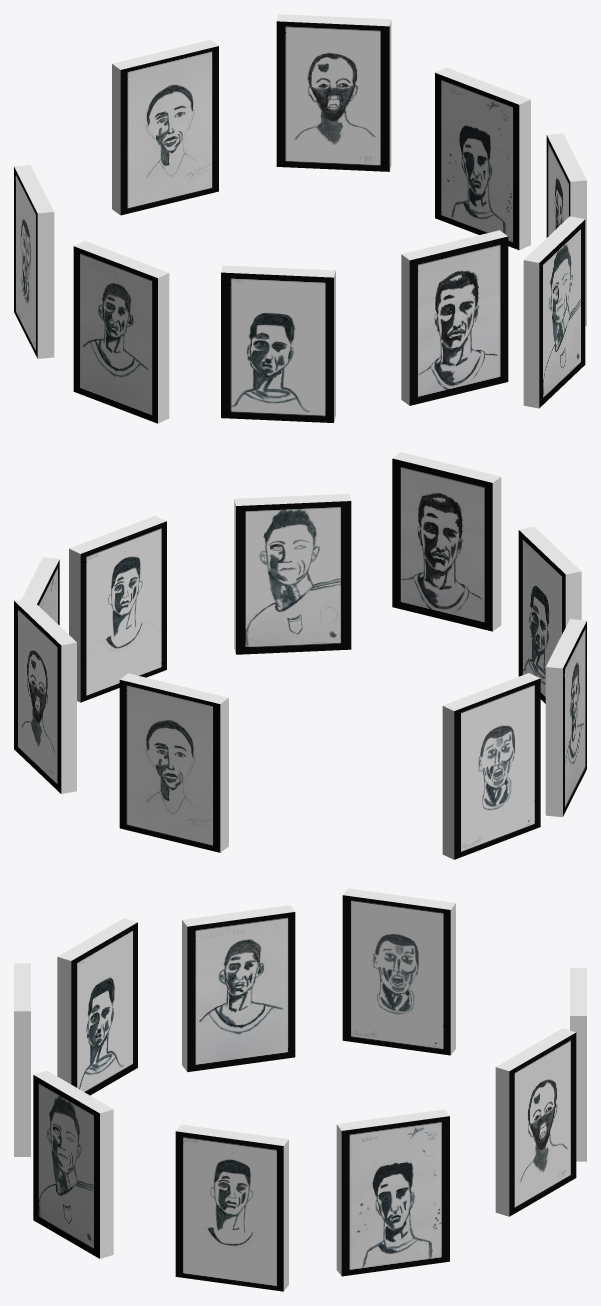
The model's file is 9_portrait.obj.
3 renders of one model, top to bottom at view 1: azimuth 30°, elevation 25°; view 2: azimuth 150°, elevation 25°; view 3: azimuth 270°, elevation 25°, orthographic. The views are drawn at different scales.
Visible parts, largest first — view 1: Cube_2, Cube_7, Cube_6, Cube_1, Cube_8, Cube_3, Cube_5, Cube_9, Cube_4; view 2: Cube_5, Cube_1, Cube_6, Cube_9, Cube_4, Cube_2, Cube_7, Cube_8, Cube_3; view 3: Cube_3, Cube_9, Cube_4, Cube_8, Cube_2, Cube_5, Cube_7, Cube_6, Cube_1.
Part boxes in pixels (x1=…): Cube_2: x1=276, y1=14, x2=391, y2=171; Cube_7: x1=221, y1=265, x2=335, y2=422; Cube_6: x1=401, y1=230, x2=508, y2=405; Cube_1: x1=112, y1=40, x2=218, y2=215; Cube_8: x1=73, y1=241, x2=169, y2=423; Cube_3: x1=435, y1=67, x2=530, y2=250; Cube_5: x1=523, y1=216, x2=585, y2=408; Cube_9: x1=14, y1=165, x2=54, y2=358; Cube_4: x1=546, y1=133, x2=586, y2=325; Cube_5: x1=234, y1=493, x2=351, y2=654; Cube_1: x1=119, y1=673, x2=228, y2=852; Cube_6: x1=392, y1=452, x2=501, y2=631; Cube_9: x1=442, y1=673, x2=540, y2=859; Cube_4: x1=69, y1=516, x2=166, y2=702; Cube_2: x1=14, y1=597, x2=76, y2=793; Cube_7: x1=518, y1=526, x2=581, y2=703; Cube_8: x1=545, y1=619, x2=586, y2=817; Cube_3: x1=22, y1=557, x2=59, y2=625; Cube_3: x1=336, y1=1109, x2=449, y2=1276; Cube_9: x1=342, y1=888, x2=455, y2=1055; Cube_4: x1=175, y1=1124, x2=288, y2=1291; Cube_8: x1=182, y1=905, x2=295, y2=1072; Cube_2: x1=495, y1=1028, x2=576, y2=1216; Cube_5: x1=33, y1=1070, x2=113, y2=1258; Cube_7: x1=57, y1=918, x2=137, y2=1095; Cube_6: x1=14, y1=963, x2=30, y2=1156; Cube_1: x1=570, y1=968, x2=586, y2=1161.
Bounding box in the file's own units: 1505 × 562 × 1513.
Materials: 10 (9 with a texture image).
